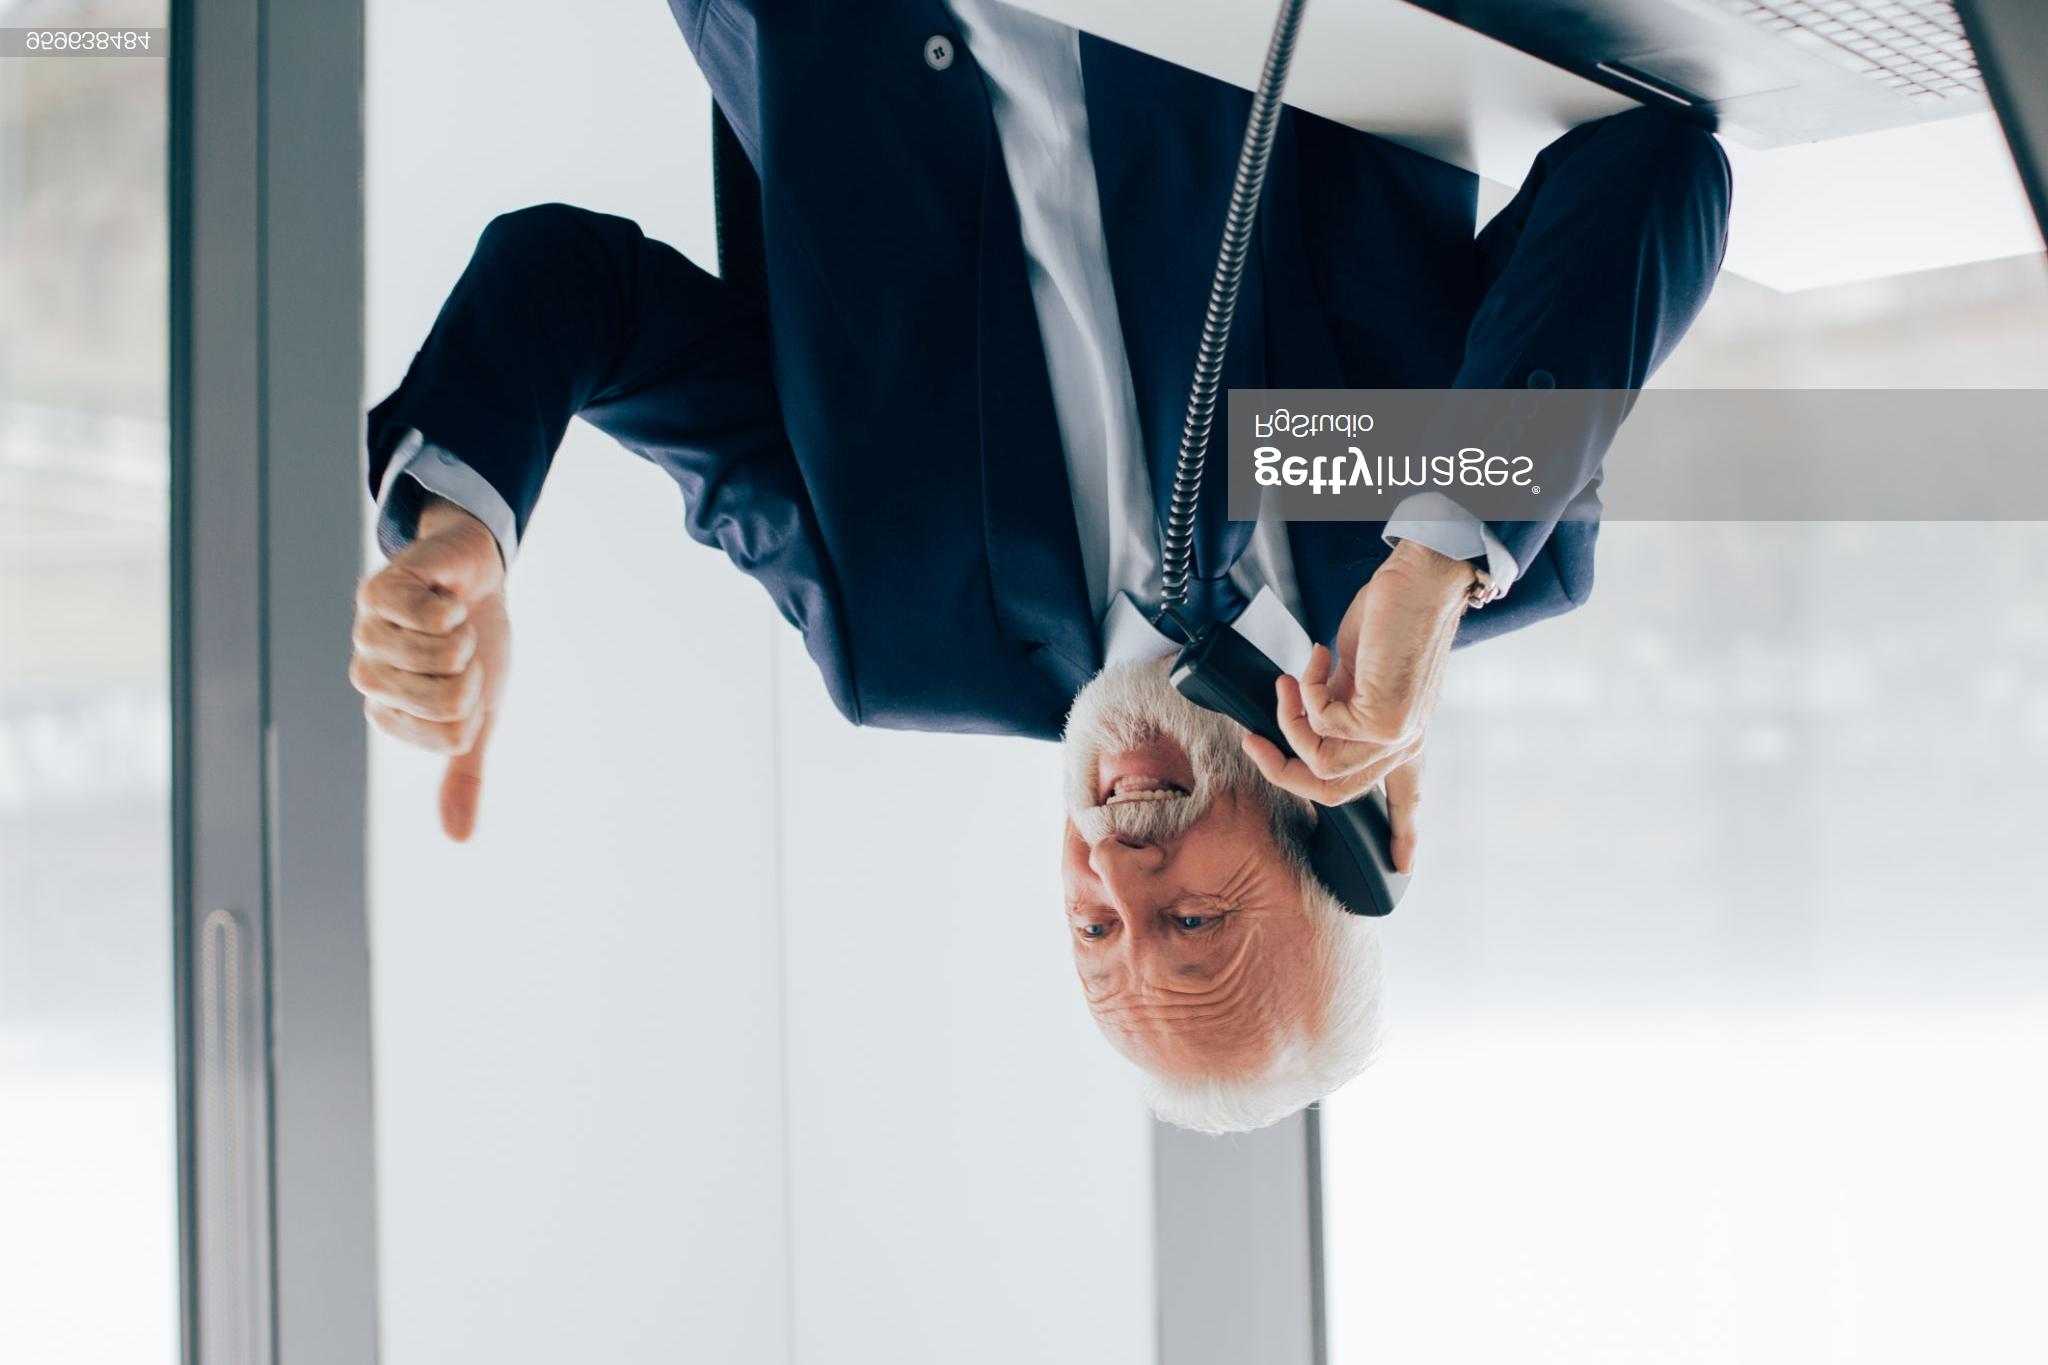thumbsdown: (347, 587, 486, 842)
